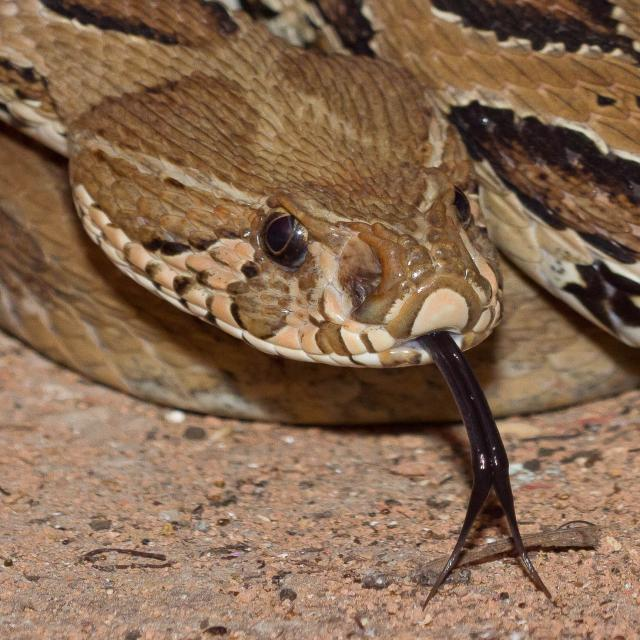Snake: (0, 0, 639, 610)
